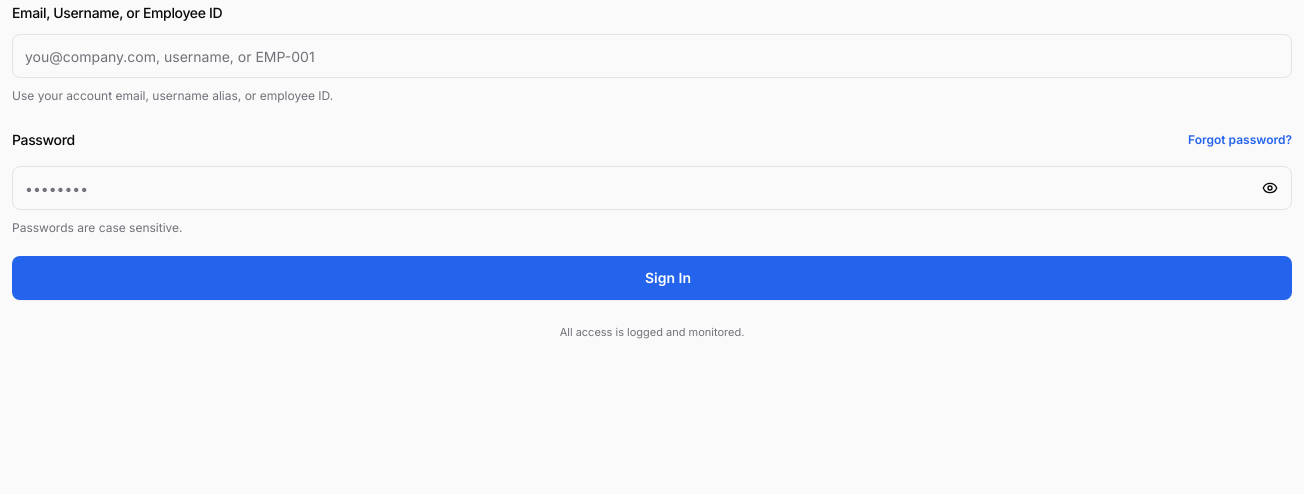
Test: LoginForm › clears error state when user types again
The width and height of the screenshot is (1304, 494).
Type "someone" into the field labelled "Email, Username, or Employee ID".
click(652, 56); type("someone")  # box x1=12 y1=34 x2=1292 y2=78
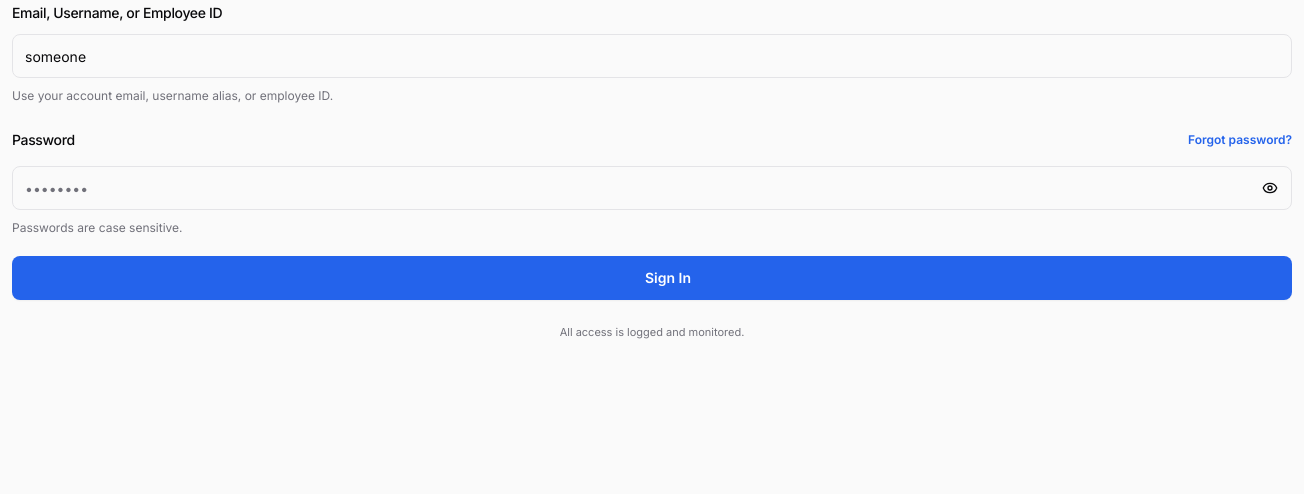
Type "bad-pass" into the password field labelled "Password".
click(652, 188); type("bad-pass")  # box x1=12 y1=166 x2=1292 y2=210
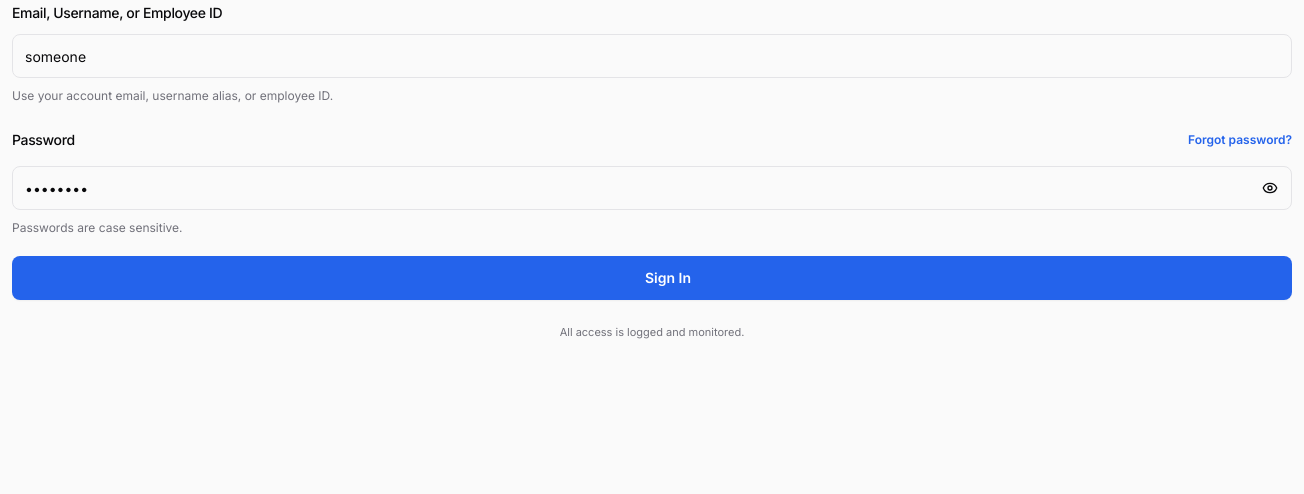
Click the button "Sign In".
click(652, 278)  # box x1=12 y1=256 x2=1292 y2=300
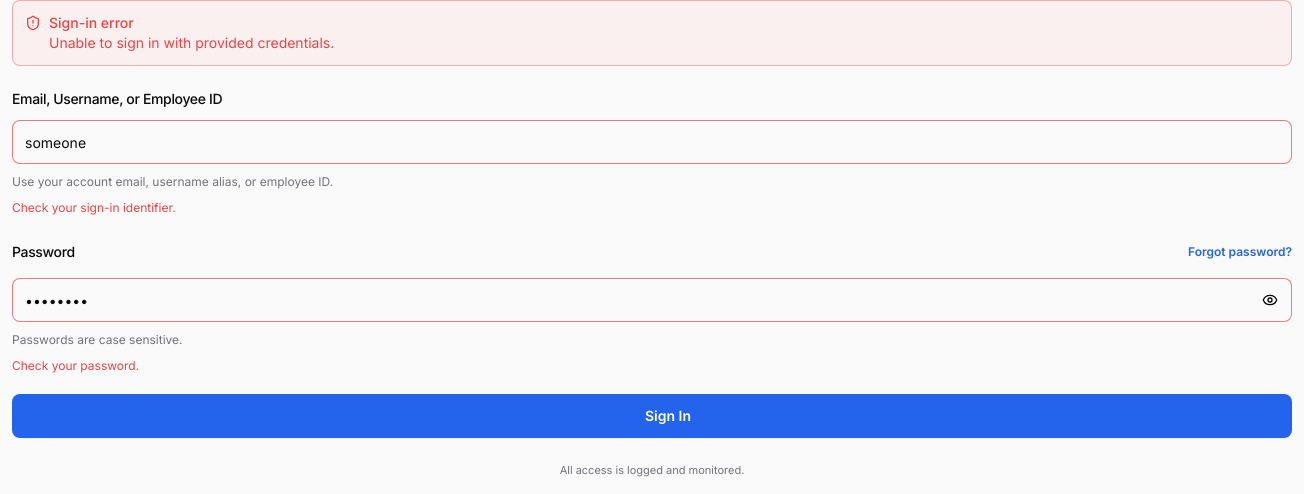
Check: the message "Sign-in error Unable to sign in with provided credentials." is shown, box x1=12 y1=0 x2=1292 y2=66
Replace the text in the field labelled "Email, Username, or Employee ID" with "someone-else" at (652, 142), box x1=12 y1=120 x2=1292 y2=164
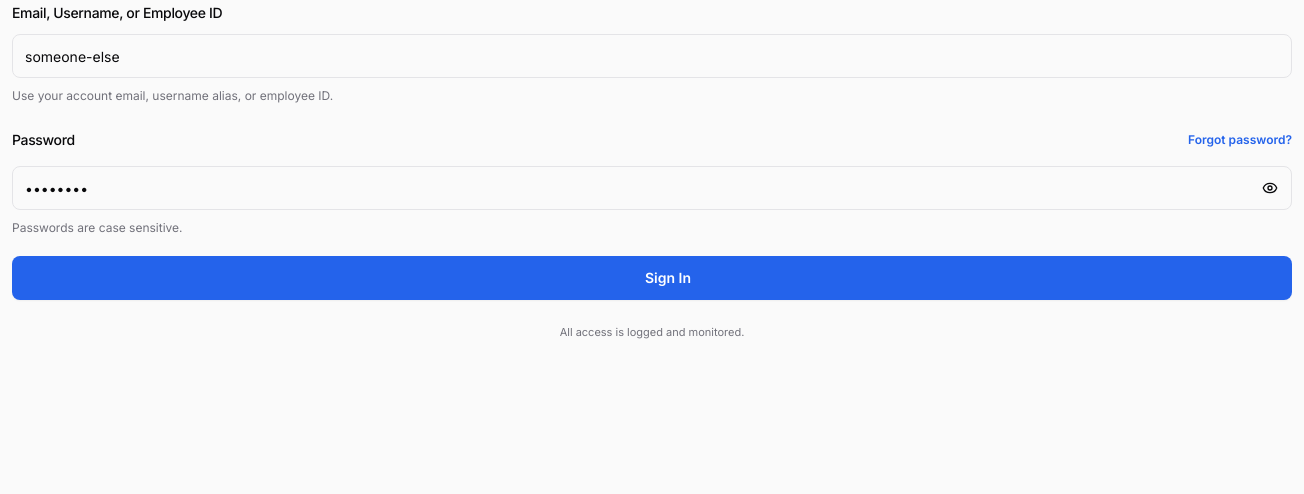
Check: the message "Sign-in error Unable to sign in with provided credentials." is gone
